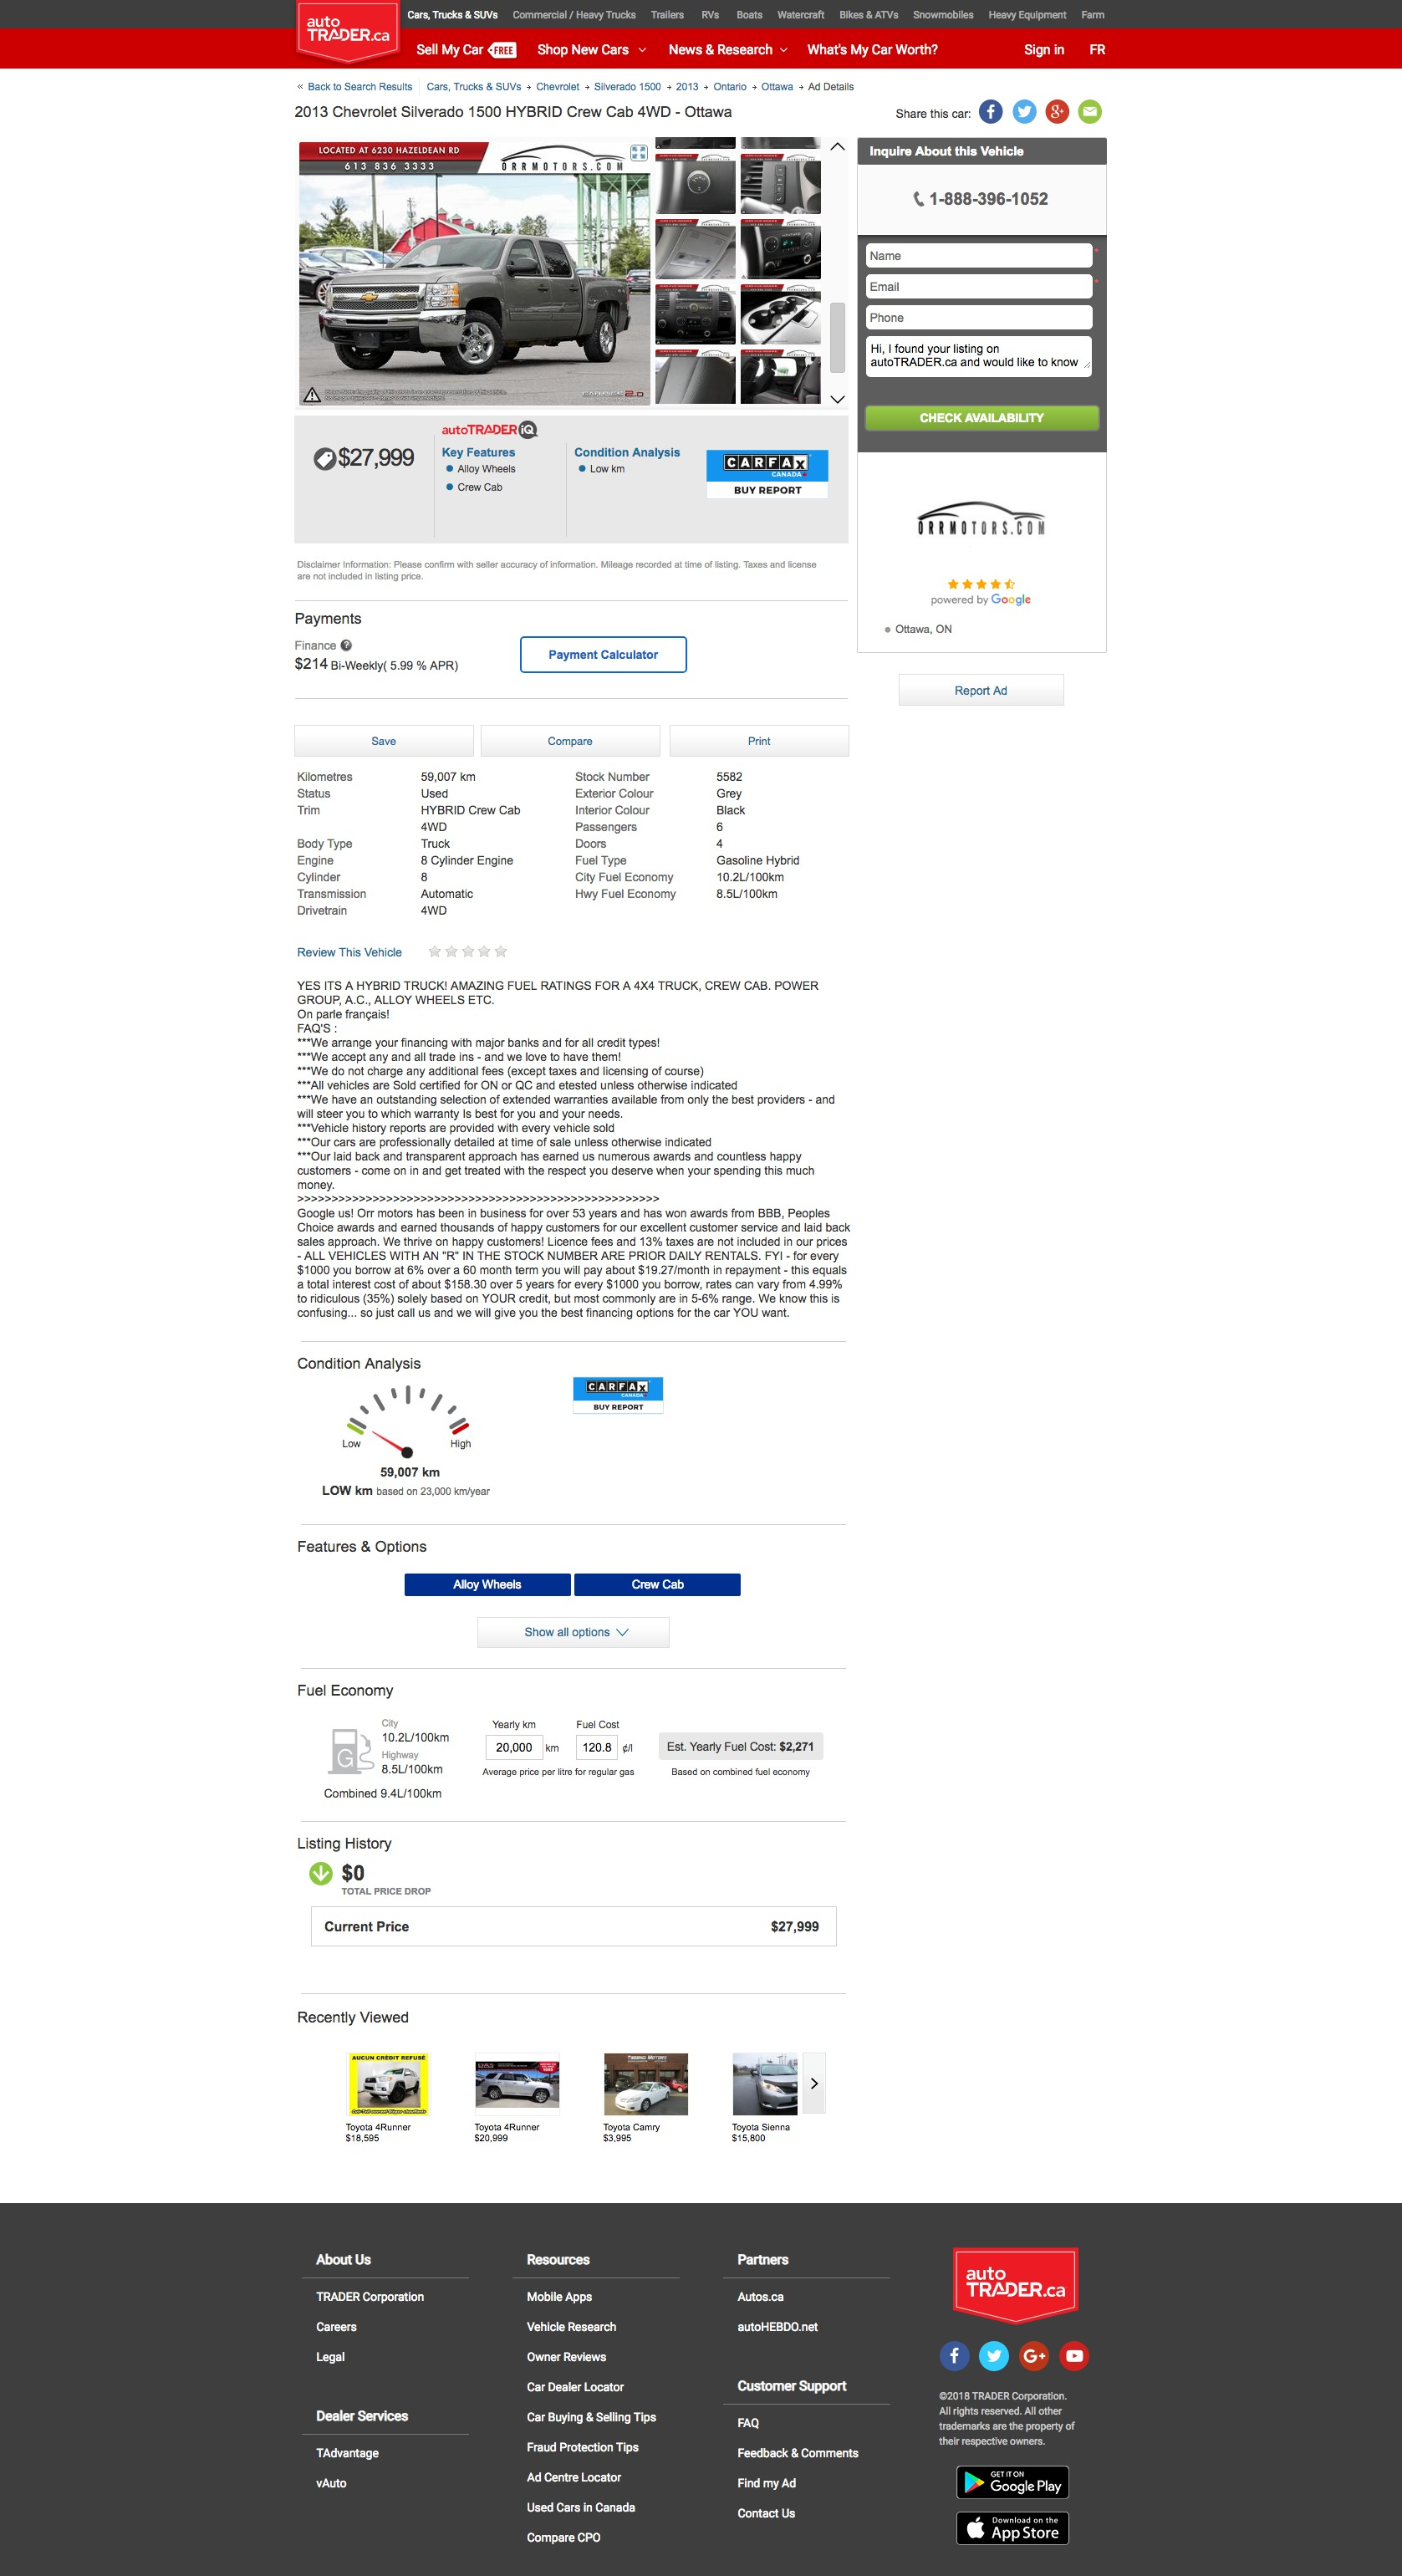car: (830, 395, 846, 404)
